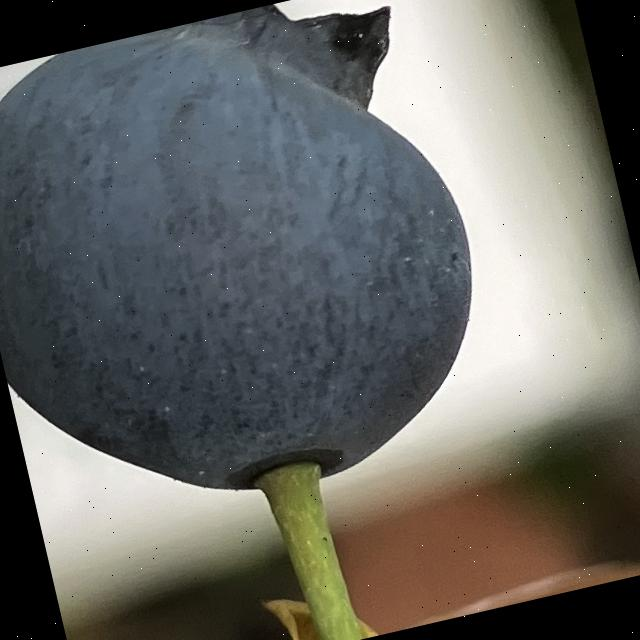Blueberries: (0, 0, 514, 544)
